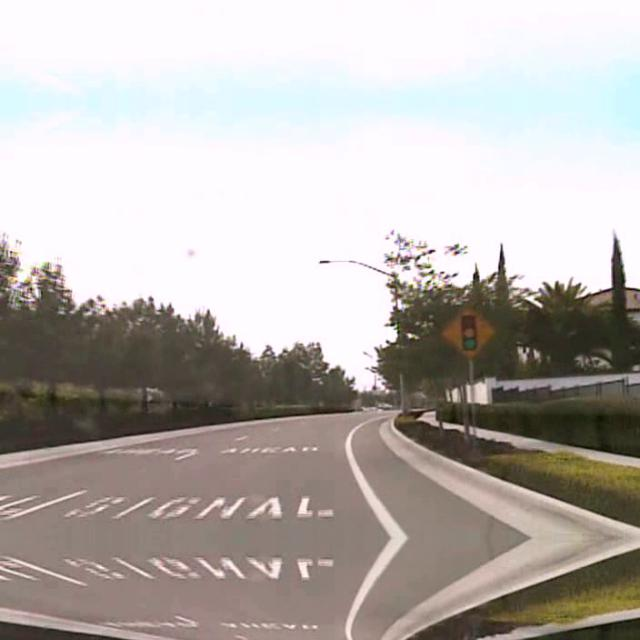signalAhead: (441, 303, 495, 357)
